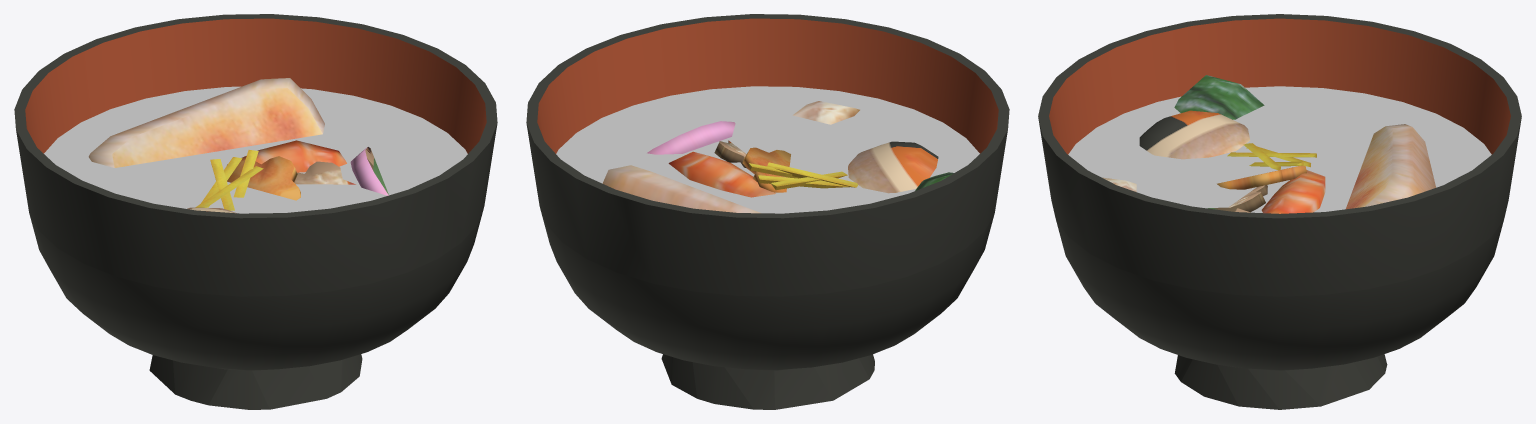
File: Zouni01.fbx
3 views of the same model, side by side, from view 1: azimuth 30°, elevation 25°; view 2: azimuth 150°, elevation 25°; view 3: azimuth 270°, elevation 25° (orthographic).
Visible parts, largest first — view 1: Zouni01; view 2: Zouni01; view 3: Zouni01.
Part boxes in pixels (<box>): Zouni01: <box>14,14,497,409</box>; Zouni01: <box>526,14,1009,409</box>; Zouni01: <box>1038,14,1521,409</box>.
Bounding box in the file's own units: 11.31 × 6.41 × 11.31.
